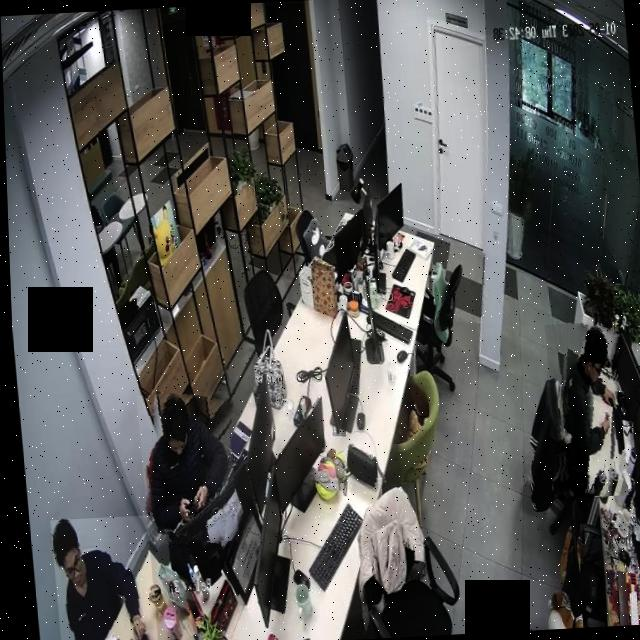person: (133, 391, 235, 545), (542, 322, 625, 499), (46, 515, 154, 640)
